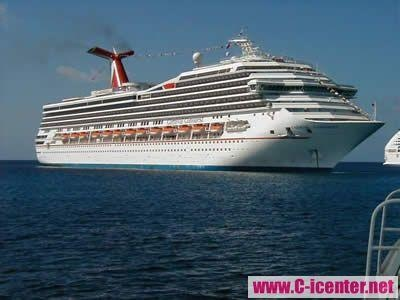youlun: (29, 24, 385, 172)
